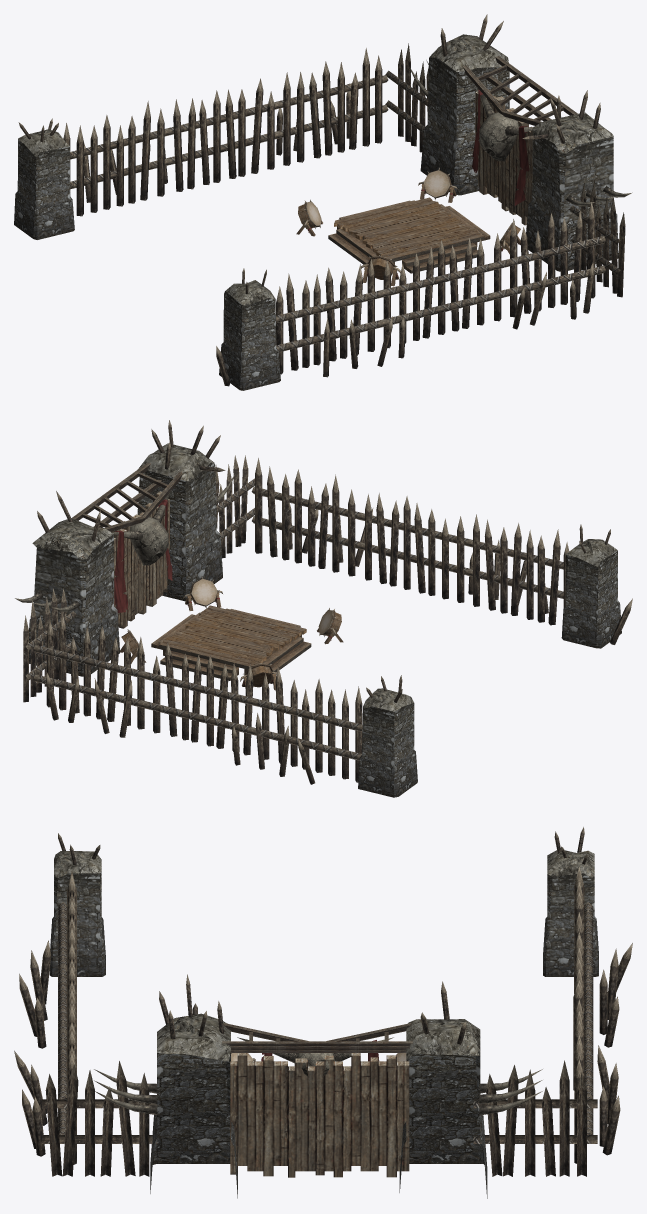
Rendered from SC_yonghengsenlin_FB01_01.FBX.
3 views of the same model, one above another, from view 1: azimuth 30°, elevation 25°; view 2: azimuth 150°, elevation 25°; view 3: azimuth 270°, elevation 25° (orthographic). The views are drawn at different scales.
Visible parts, largest first — view 1: SC_yonghengsenlin_FB01_01; view 2: SC_yonghengsenlin_FB01_01; view 3: SC_yonghengsenlin_FB01_01.
Boxes of the visible parts, x1,y1,x2,y2 form: SC_yonghengsenlin_FB01_01: [14, 14, 632, 390]; SC_yonghengsenlin_FB01_01: [15, 420, 632, 797]; SC_yonghengsenlin_FB01_01: [14, 827, 632, 1198].
Size of the model in its own units: 3022 by 1094 by 3088.
